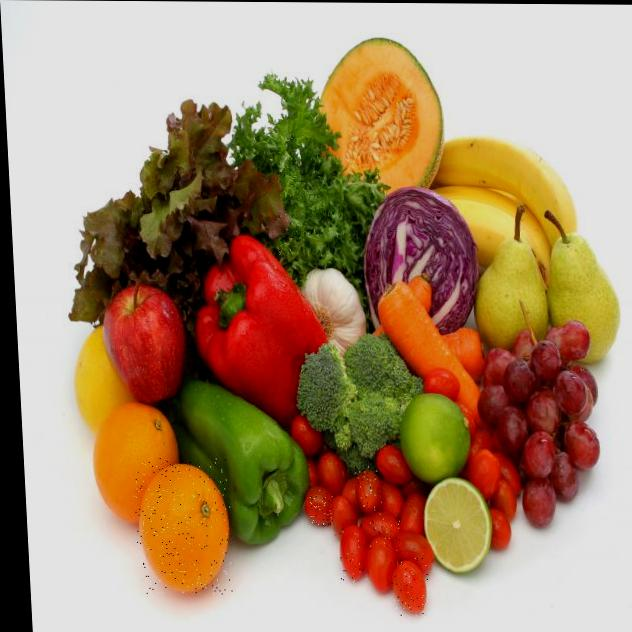Orange: (132, 458, 235, 595), (88, 398, 181, 521)
Tomato: (391, 558, 430, 617), (338, 525, 367, 582), (355, 465, 385, 516), (367, 519, 405, 551), (310, 488, 338, 526)
